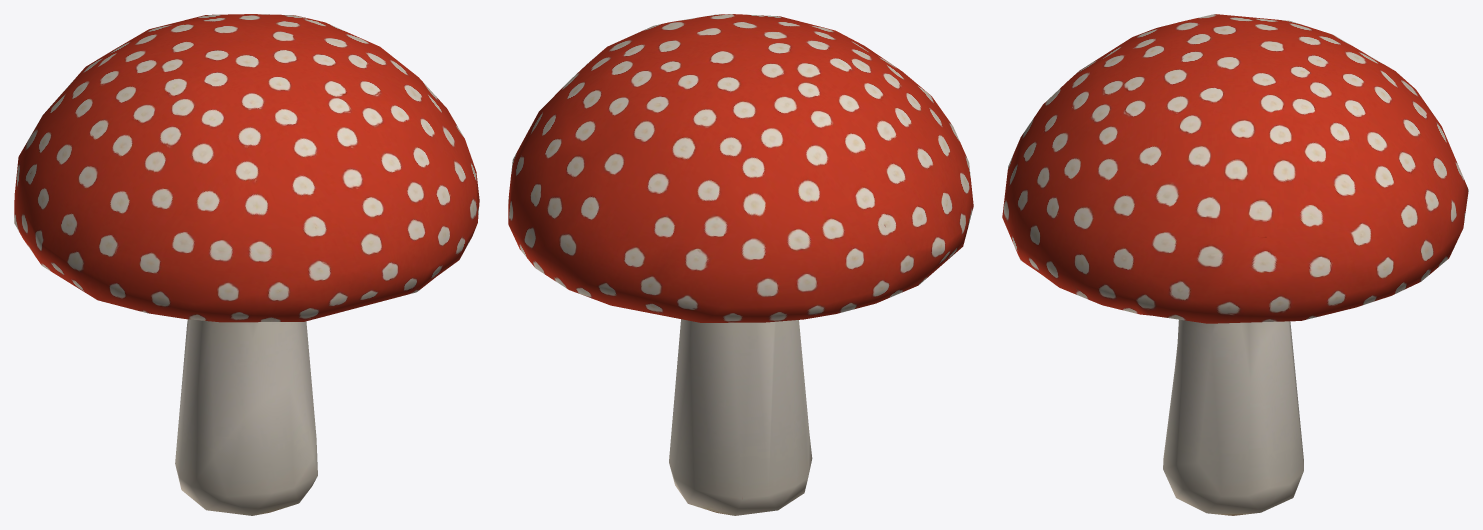
Rendered from mushroom.glb.
3 renders of one model, left to right at view 1: azimuth 30°, elevation 25°; view 2: azimuth 150°, elevation 25°; view 3: azimuth 270°, elevation 25°, orthographic.
Parts seen in each view (by area): view 1: new; view 2: new; view 3: new.
Boxes of the visible parts, x1=… form: new: x1=14, y1=14, x2=479, y2=515; new: x1=508, y1=14, x2=973, y2=515; new: x1=1002, y1=14, x2=1468, y2=515.
Bounding box in the file's own units: 0.8957 × 0.9604 × 0.8969.
Materials: 1 (1 with a texture image).
